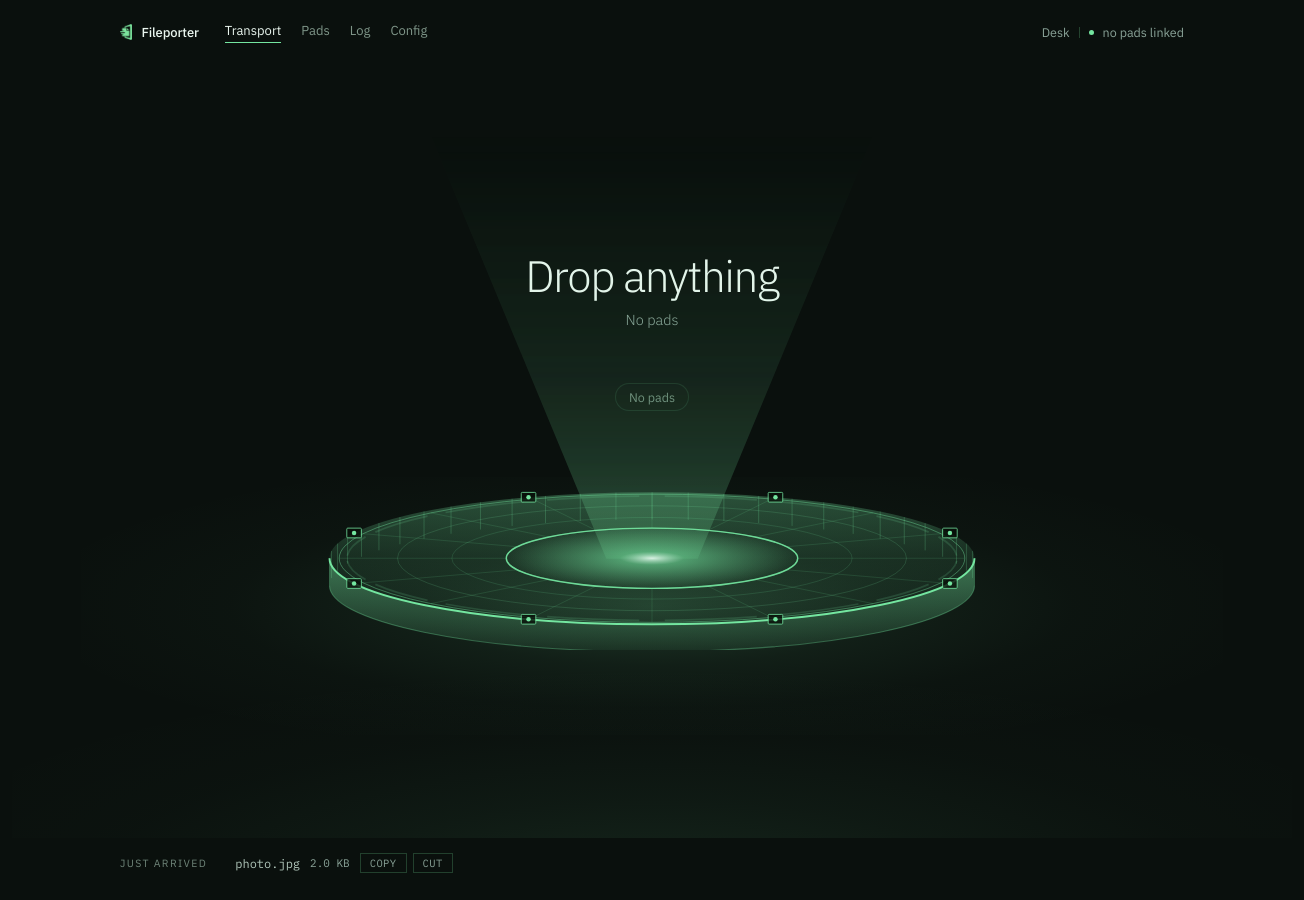
Test: cuts an arrived file so the file manager completes the move
Click the button with aria-label "Cut photo.jpg".
click(433, 863)  # box [412,853,453,873]
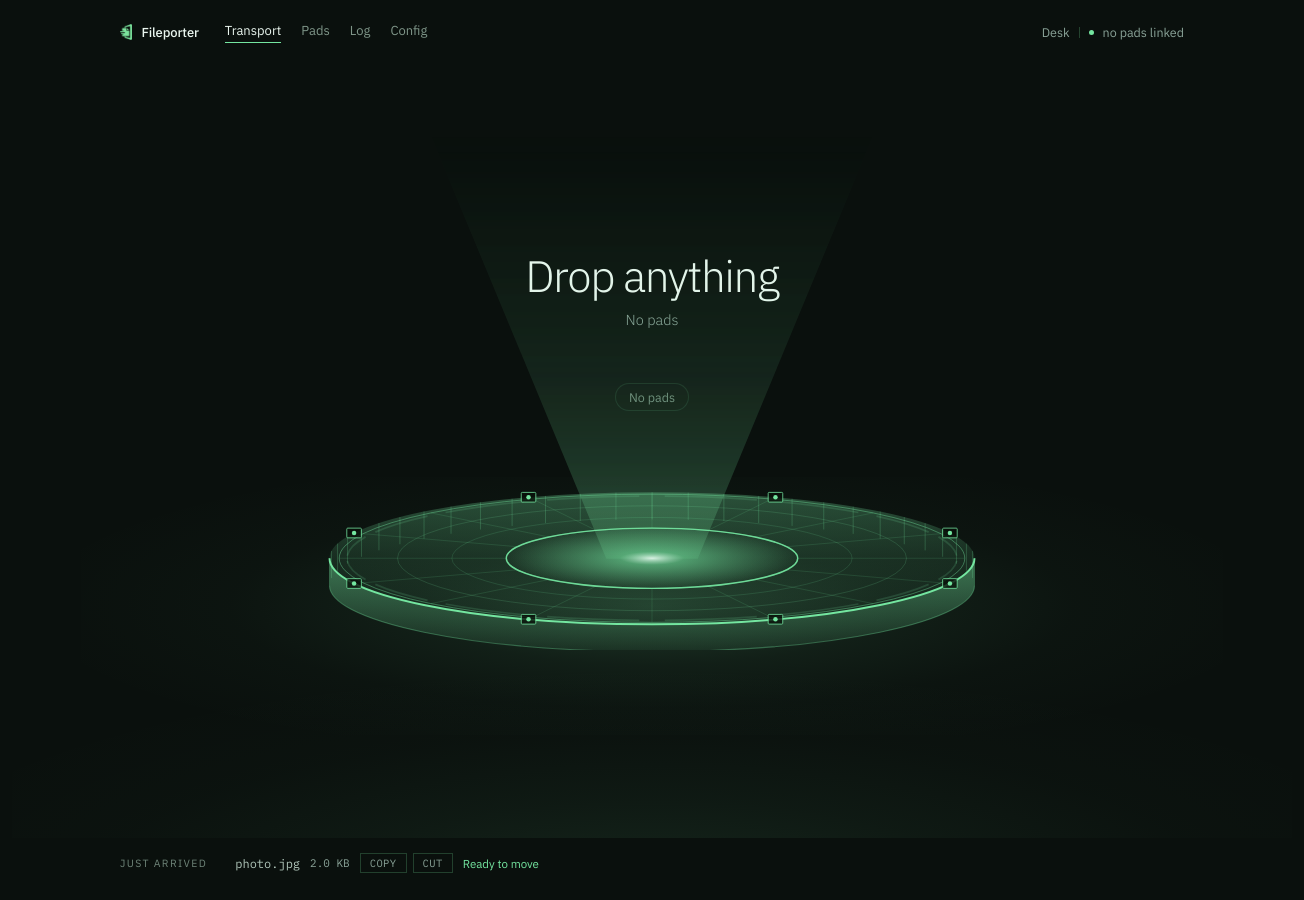
Expected: the message reads "Ready to move", [463,856,539,870]
